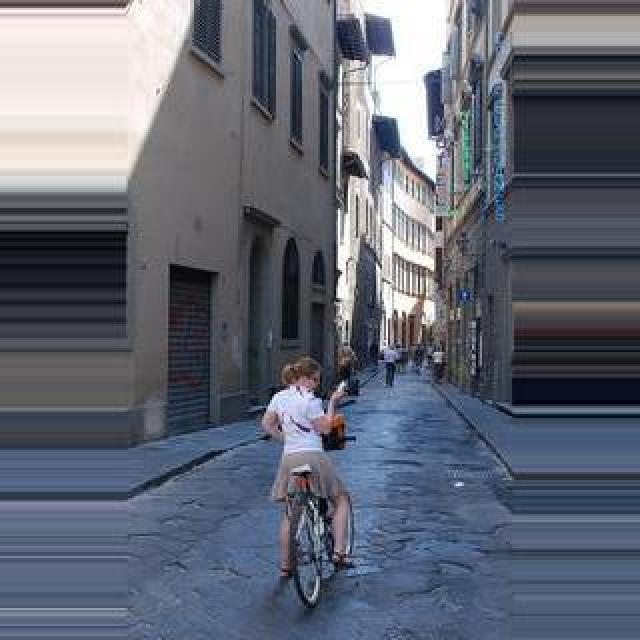MC-Bike: (260, 354, 356, 578)
Person: (280, 464, 338, 612)
